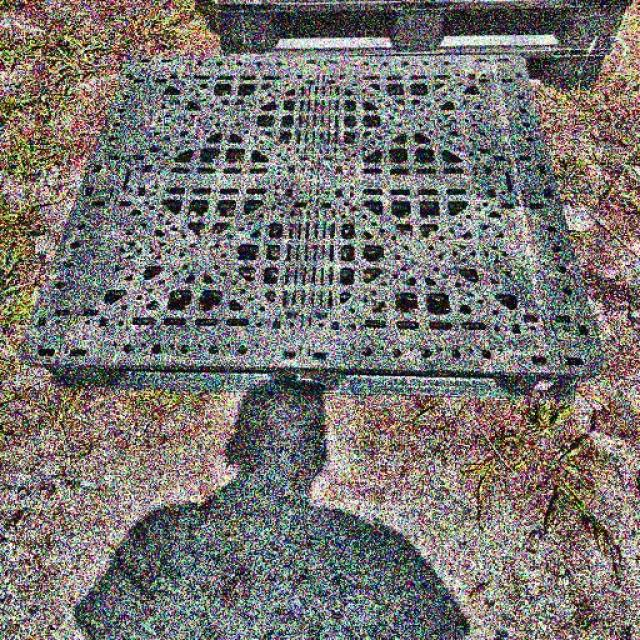non-igps: (12, 48, 610, 418), (187, 0, 640, 96)
